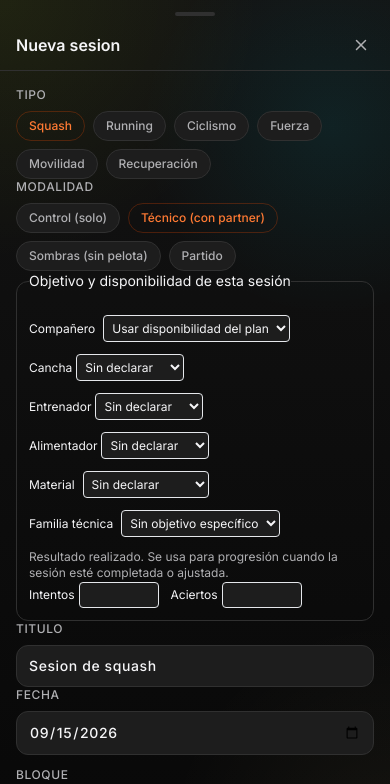
Test: SessionForm › cambiar el tipo actualiza el título mientras siga siendo el default automático
Click the button "Running". click: x=129, y=126
box: [93,111,166,141]
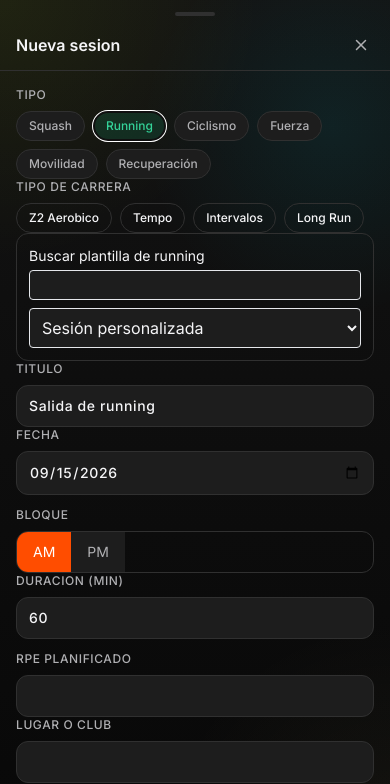
Result: the field labelled "Titulo" holds "Salida de running" at [16,385,374,427]
